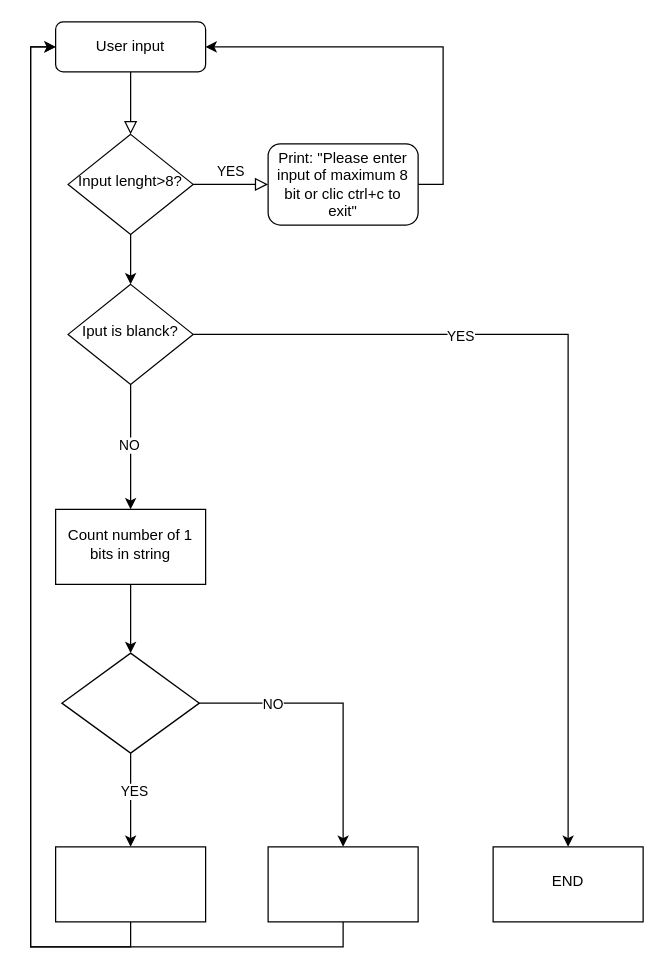
Image size: 665x979. Some labels were removed from this diagram. Here are the shapes that lost their labels. From the top down, the centre of each, then its label:
pixel 130 702: Is number of 1 even?
pixel 130 884: Print: "The parity bit is 0"
pixel 342 884: Print: "The parity bit is 1"
